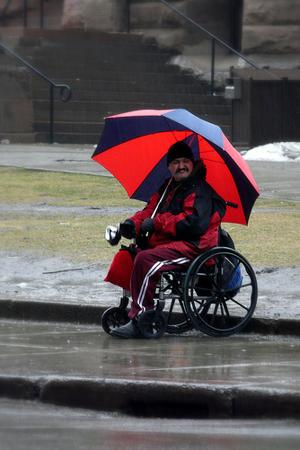person: (106, 140, 221, 340)
